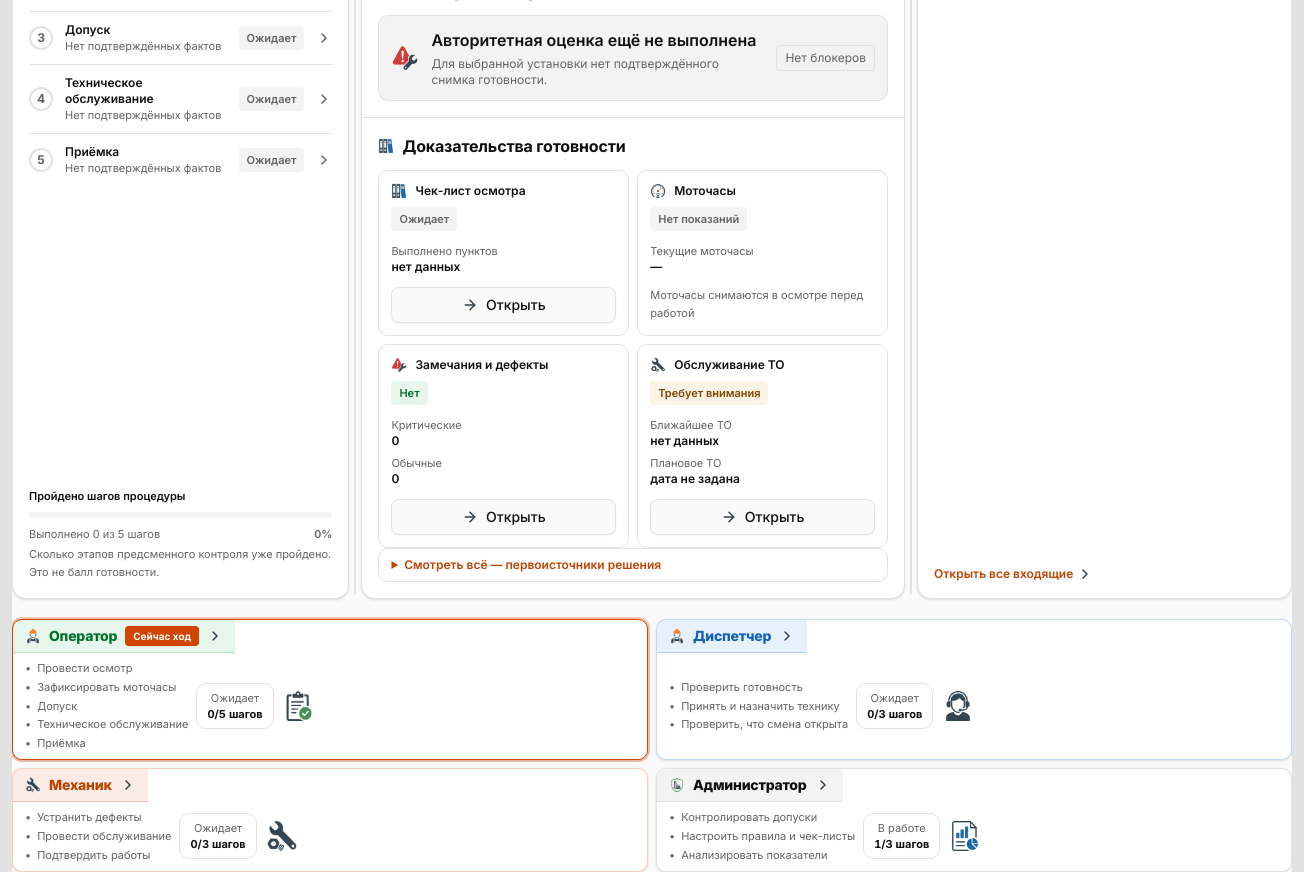
Test: Шаги ролей: тупики и ложные «выполнено» (W66) › механик: без загруженного журнала «Подтвердить работы» — «нет данных», а не «выполнено»
This screenshot has width=1304, height=872.
(page scrolled)
What coordinates should you click on to do the following:
click the button with aria-label "Механик: что делать сейчас"
I would click on:
 (80, 786)
Its box is [13, 769, 647, 871].
(page scrolled)
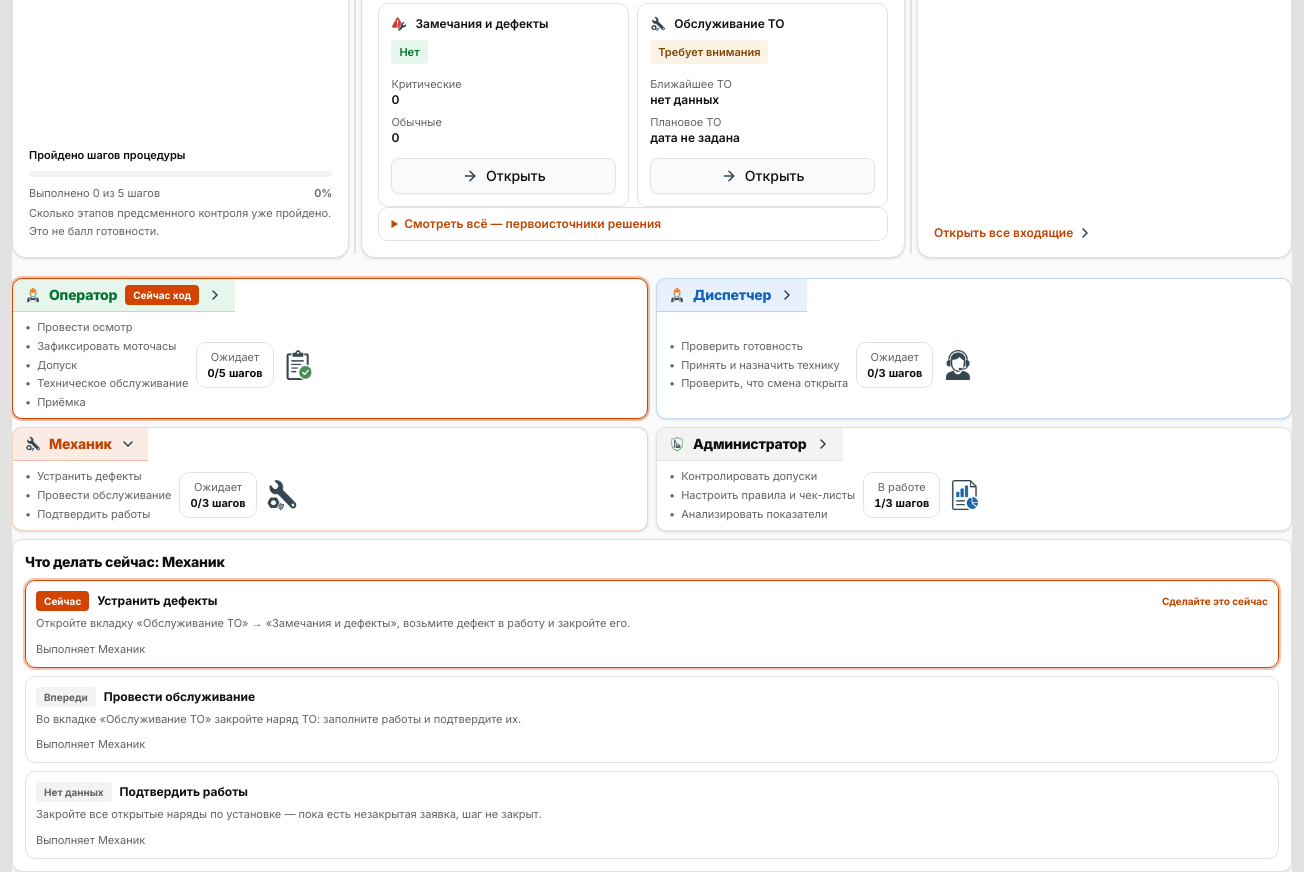
Result: the text "Нет данных" is shown at [36, 782, 112, 802]
